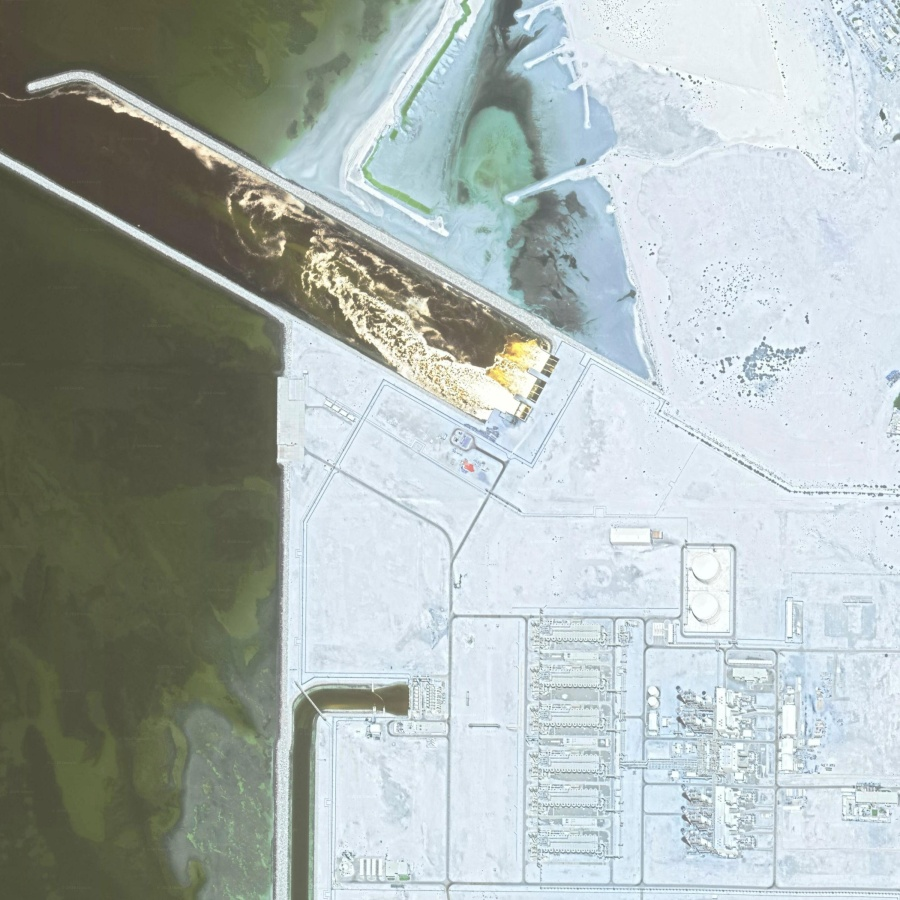PowerPlant: (524, 520, 855, 864)
